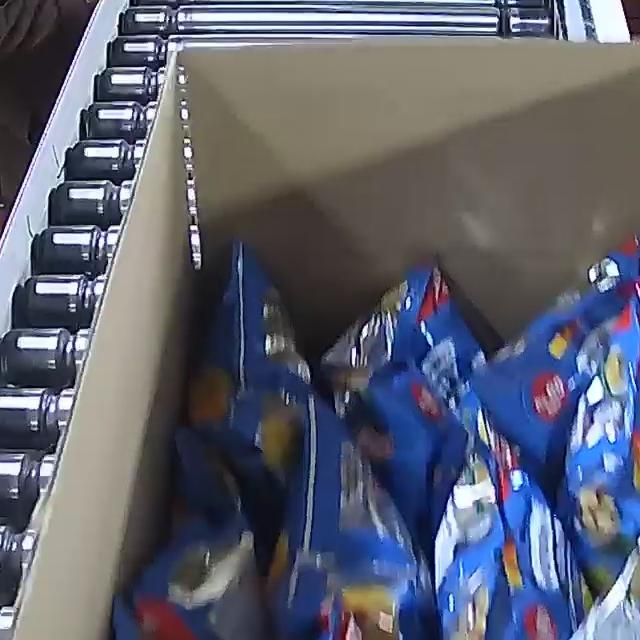paprika: (97, 226, 640, 640)
